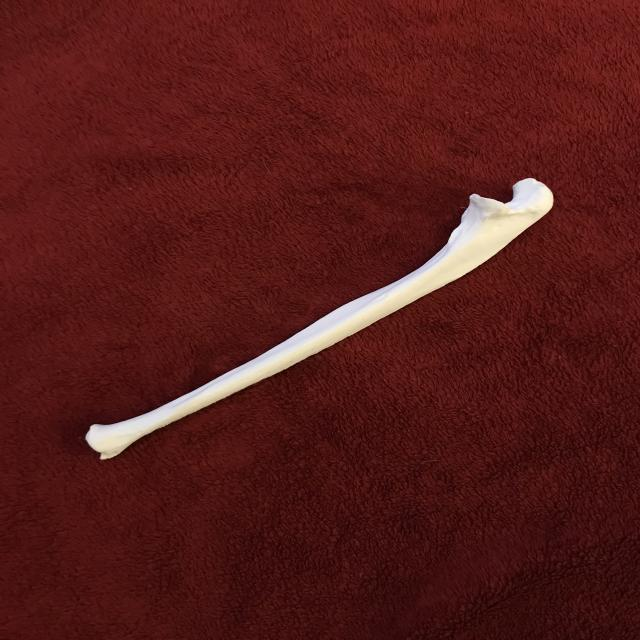bone: (82, 176, 564, 459)
